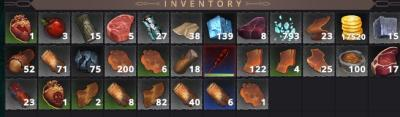ash log: (71, 11, 103, 43)
birch log: (137, 12, 170, 43)
durable hide: (137, 78, 169, 110), (70, 78, 103, 109)
ethereal dust: (269, 12, 302, 43)
flexible hide: (302, 13, 334, 44)
gold: (335, 13, 368, 43)
granite stone: (369, 13, 399, 43)
oak log: (169, 77, 203, 110), (203, 78, 236, 110), (37, 45, 70, 76), (105, 77, 136, 109)
soft leather: (104, 44, 136, 76), (236, 77, 268, 109), (138, 45, 169, 77)
spruce log: (170, 45, 202, 76)
strong hide: (236, 45, 268, 77), (269, 45, 302, 76)
tough hide: (303, 45, 334, 76)
yew log: (4, 77, 38, 110)
